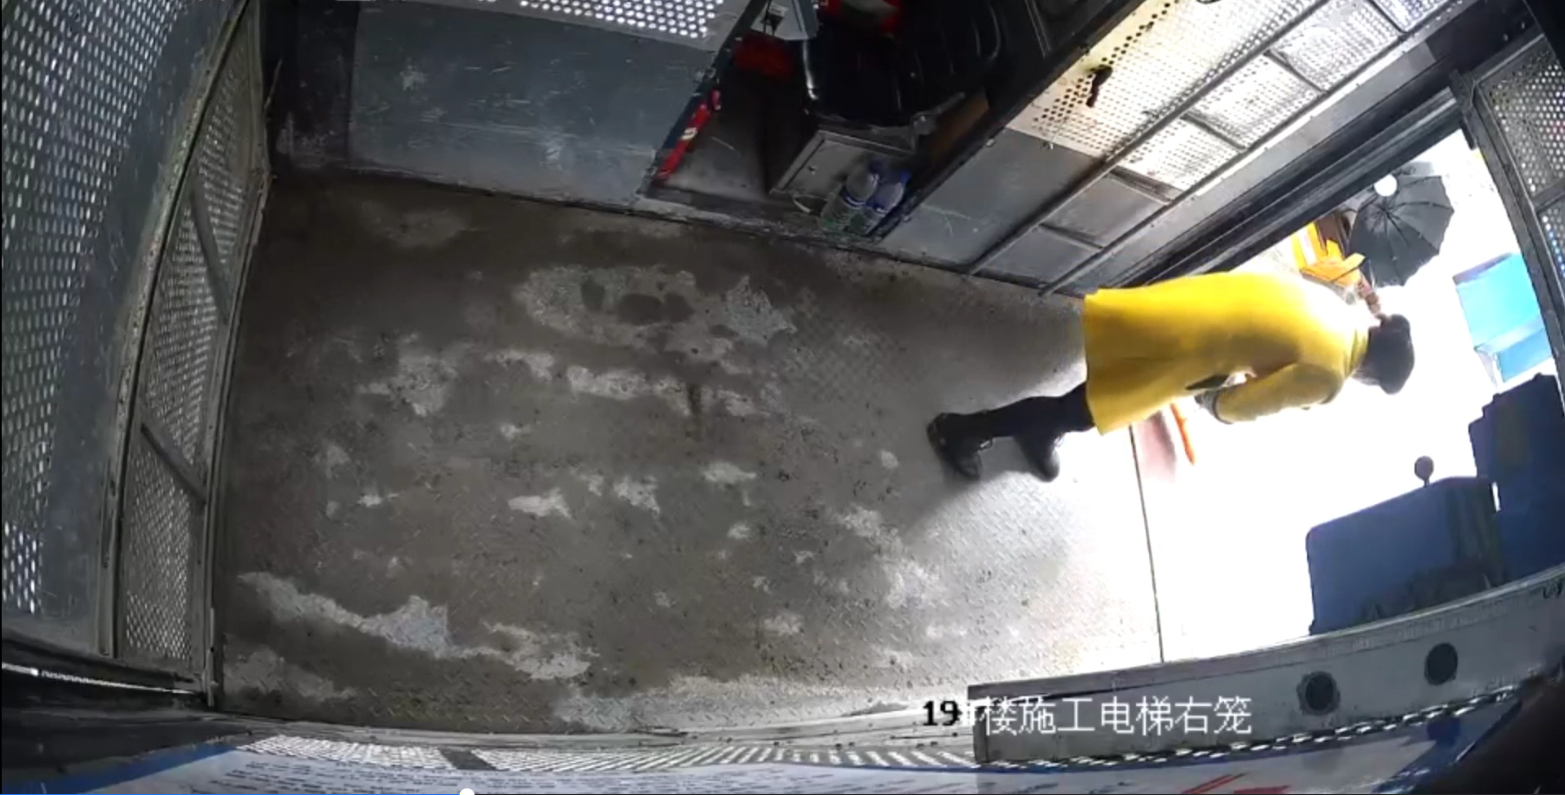person: (925, 265, 1420, 487)
